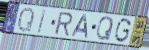A: (71, 14, 89, 39)
G: (113, 17, 133, 44)
I: (37, 8, 48, 35)
Q: (16, 6, 36, 33), (95, 16, 115, 42)
R: (53, 12, 74, 37)
